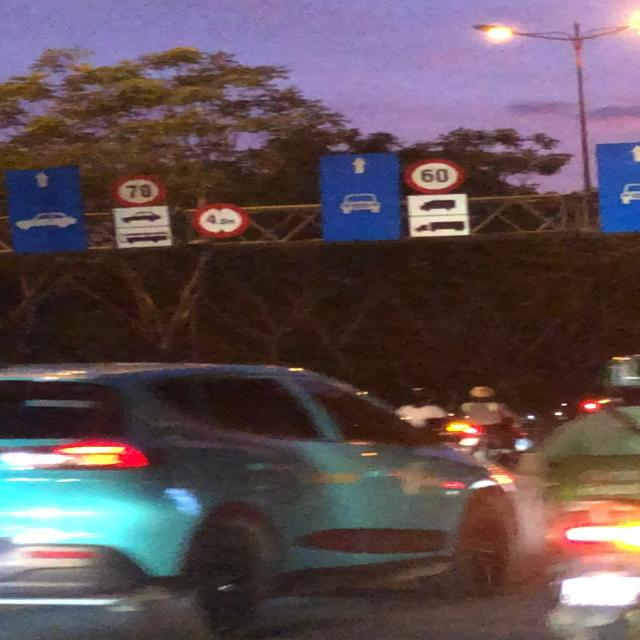Bien bao han che chieu cao: (187, 200, 252, 243)
Bien bao toc do toi da cho phep: (398, 156, 472, 194), (106, 171, 171, 210)
